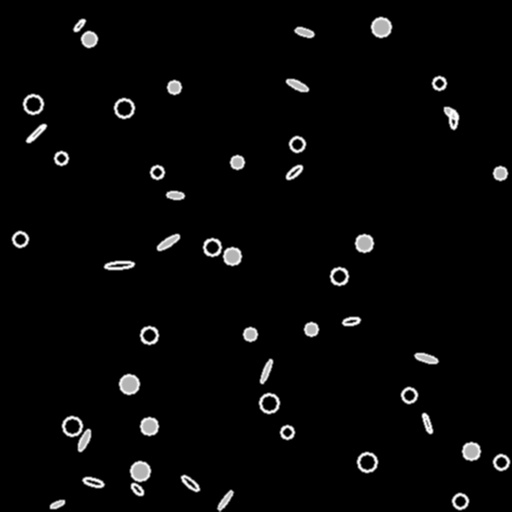pseudomonas: (156, 232, 180, 252), (26, 123, 46, 143), (285, 77, 309, 93), (76, 428, 92, 452), (259, 358, 273, 384), (180, 474, 200, 492), (285, 163, 303, 181), (217, 490, 233, 510), (104, 260, 134, 270), (414, 352, 438, 364), (421, 412, 433, 434), (294, 26, 314, 38), (443, 106, 459, 120), (82, 477, 104, 487), (72, 18, 86, 32), (130, 482, 144, 496), (49, 499, 65, 509), (166, 191, 184, 199), (449, 110, 457, 128), (342, 317, 360, 325)
synechocystis: (115, 99, 133, 117), (24, 95, 42, 113), (260, 394, 278, 412), (131, 462, 149, 480), (120, 375, 138, 393), (372, 18, 390, 36), (358, 453, 376, 471), (63, 417, 81, 435), (356, 235, 372, 251), (224, 248, 240, 264), (141, 327, 157, 343), (204, 239, 220, 255), (463, 443, 479, 459), (331, 268, 347, 284), (141, 418, 157, 434), (453, 494, 467, 508), (290, 137, 304, 151), (402, 388, 416, 402), (13, 232, 27, 246), (494, 455, 508, 469), (82, 32, 96, 46), (433, 77, 445, 89), (244, 328, 256, 340), (55, 152, 67, 164), (281, 426, 293, 438), (151, 166, 163, 178), (231, 156, 243, 168), (494, 167, 506, 179), (305, 323, 317, 335), (168, 81, 180, 93)
